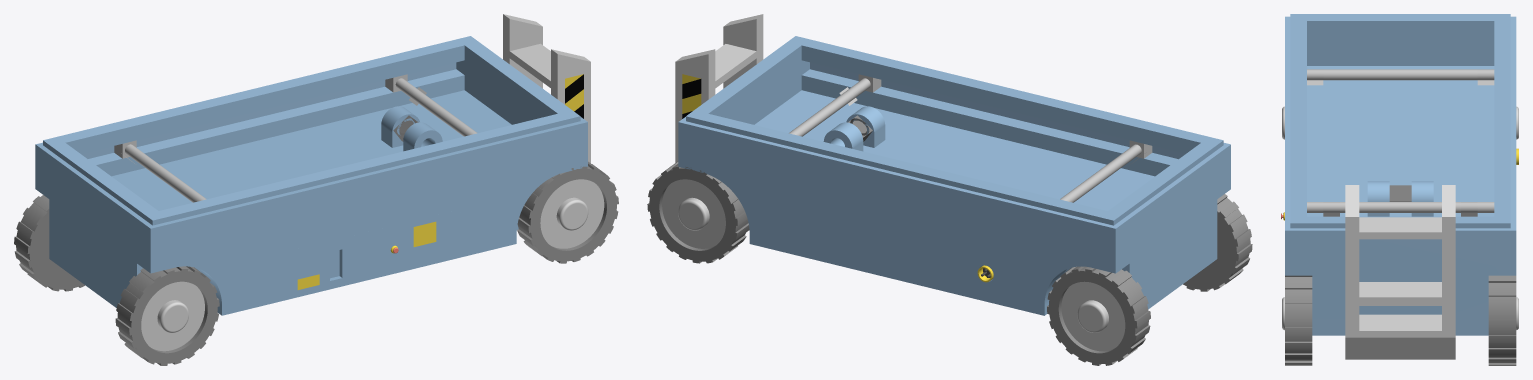
The picture shows the model from 3 angles, left to right: view 1: azimuth 30°, elevation 25°; view 2: azimuth 150°, elevation 25°; view 3: azimuth 270°, elevation 25°; orthographic projection.
Visible parts, largest first — view 1: mesh4.005; view 2: mesh4.005; view 3: mesh4.005.
Part boxes in pixels (box(x1,y1,x2,y2)): mesh4.005: box(14, 14, 618, 365); mesh4.005: box(647, 14, 1252, 365); mesh4.005: box(1281, 14, 1518, 365).
Bounding box in the file's own units: 41.74 × 15.21 × 17.42.
